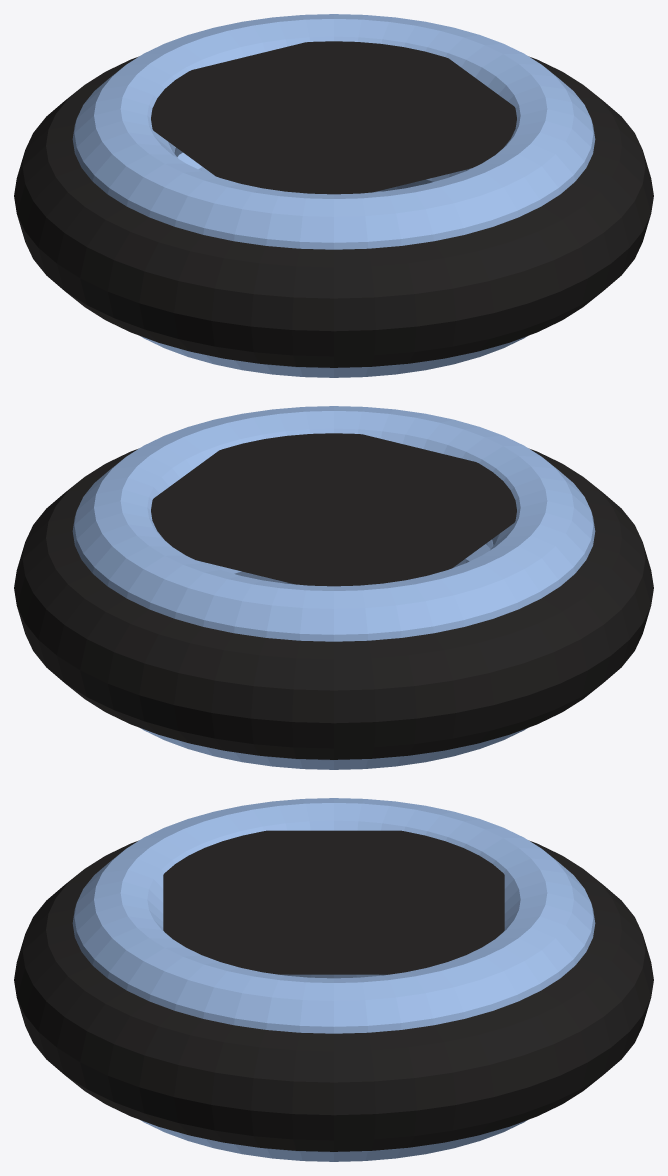
Rendered from landing.fbx.
The picture shows the model from 3 angles, top to bottom: view 1: azimuth 30°, elevation 25°; view 2: azimuth 150°, elevation 25°; view 3: azimuth 270°, elevation 25°; orthographic projection.
Visible parts, largest first — view 1: Torus, Torus.002, Plane, Torus.001; view 2: Torus, Torus.002, Plane, Torus.001; view 3: Torus, Torus.002, Plane, Torus.001.
Part boxes in pixels (box(x1,y1,x2,y2)): Torus: box(14, 56, 653, 367); Torus.002: box(72, 14, 595, 249); Plane: box(151, 41, 516, 194); Torus.001: box(140, 152, 527, 377); Torus: box(14, 448, 653, 759); Torus.002: box(72, 406, 595, 641); Plane: box(151, 433, 516, 586); Torus.001: box(140, 544, 527, 769); Torus: box(14, 840, 653, 1151); Torus.002: box(72, 798, 595, 1033); Plane: box(163, 830, 504, 974); Torus.001: box(140, 974, 527, 1161).
Bounding box in the file's own units: 750 × 225 × 750.
